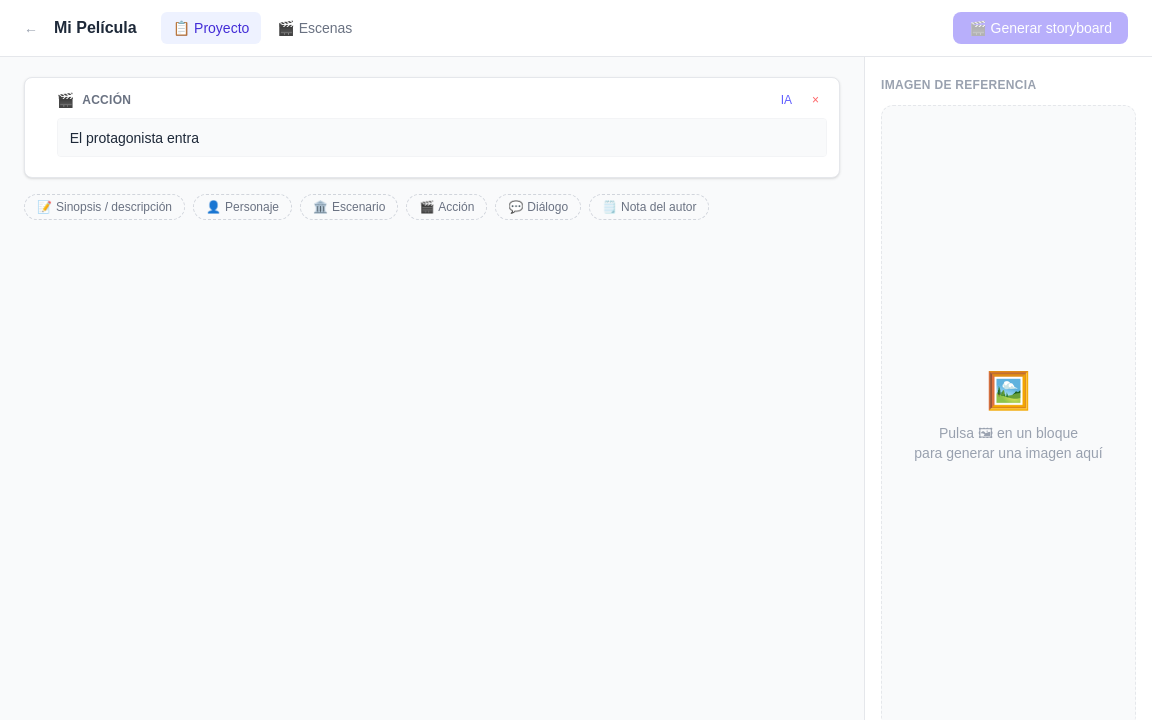
Scenario: EditorPage — tabs › cambia a tab Escenas al pulsarlo
Expected: the heading "Mi Película" is shown, [54,16,137,40]
Click the button "🎬 Escenas". click: (315, 28)
box: [265,12,364,44]
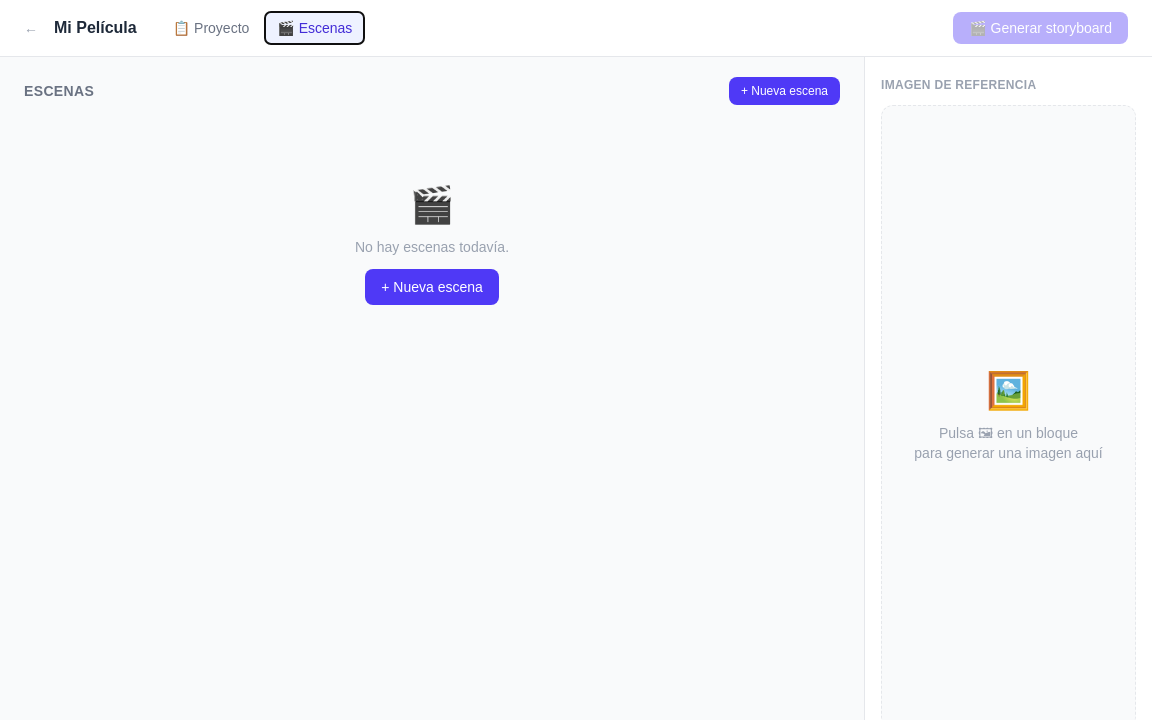
Expected: the element with test id "block" is gone
